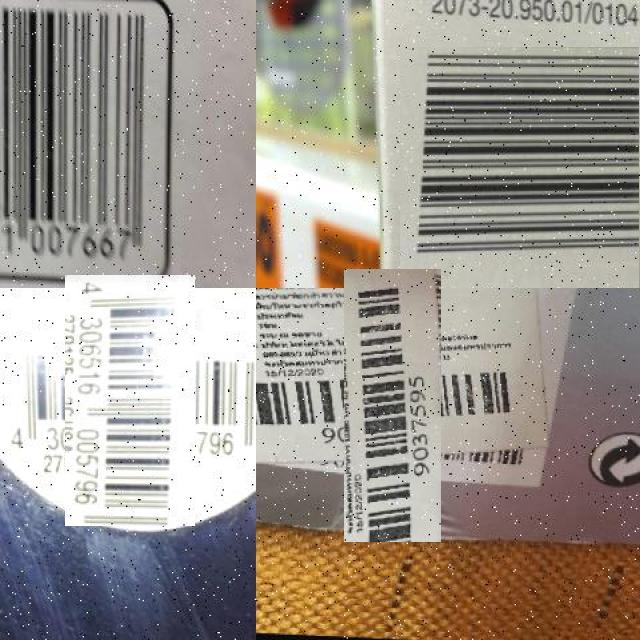Barcode: (399, 48, 640, 288), (0, 0, 175, 288), (34, 304, 226, 496), (300, 313, 485, 499)
